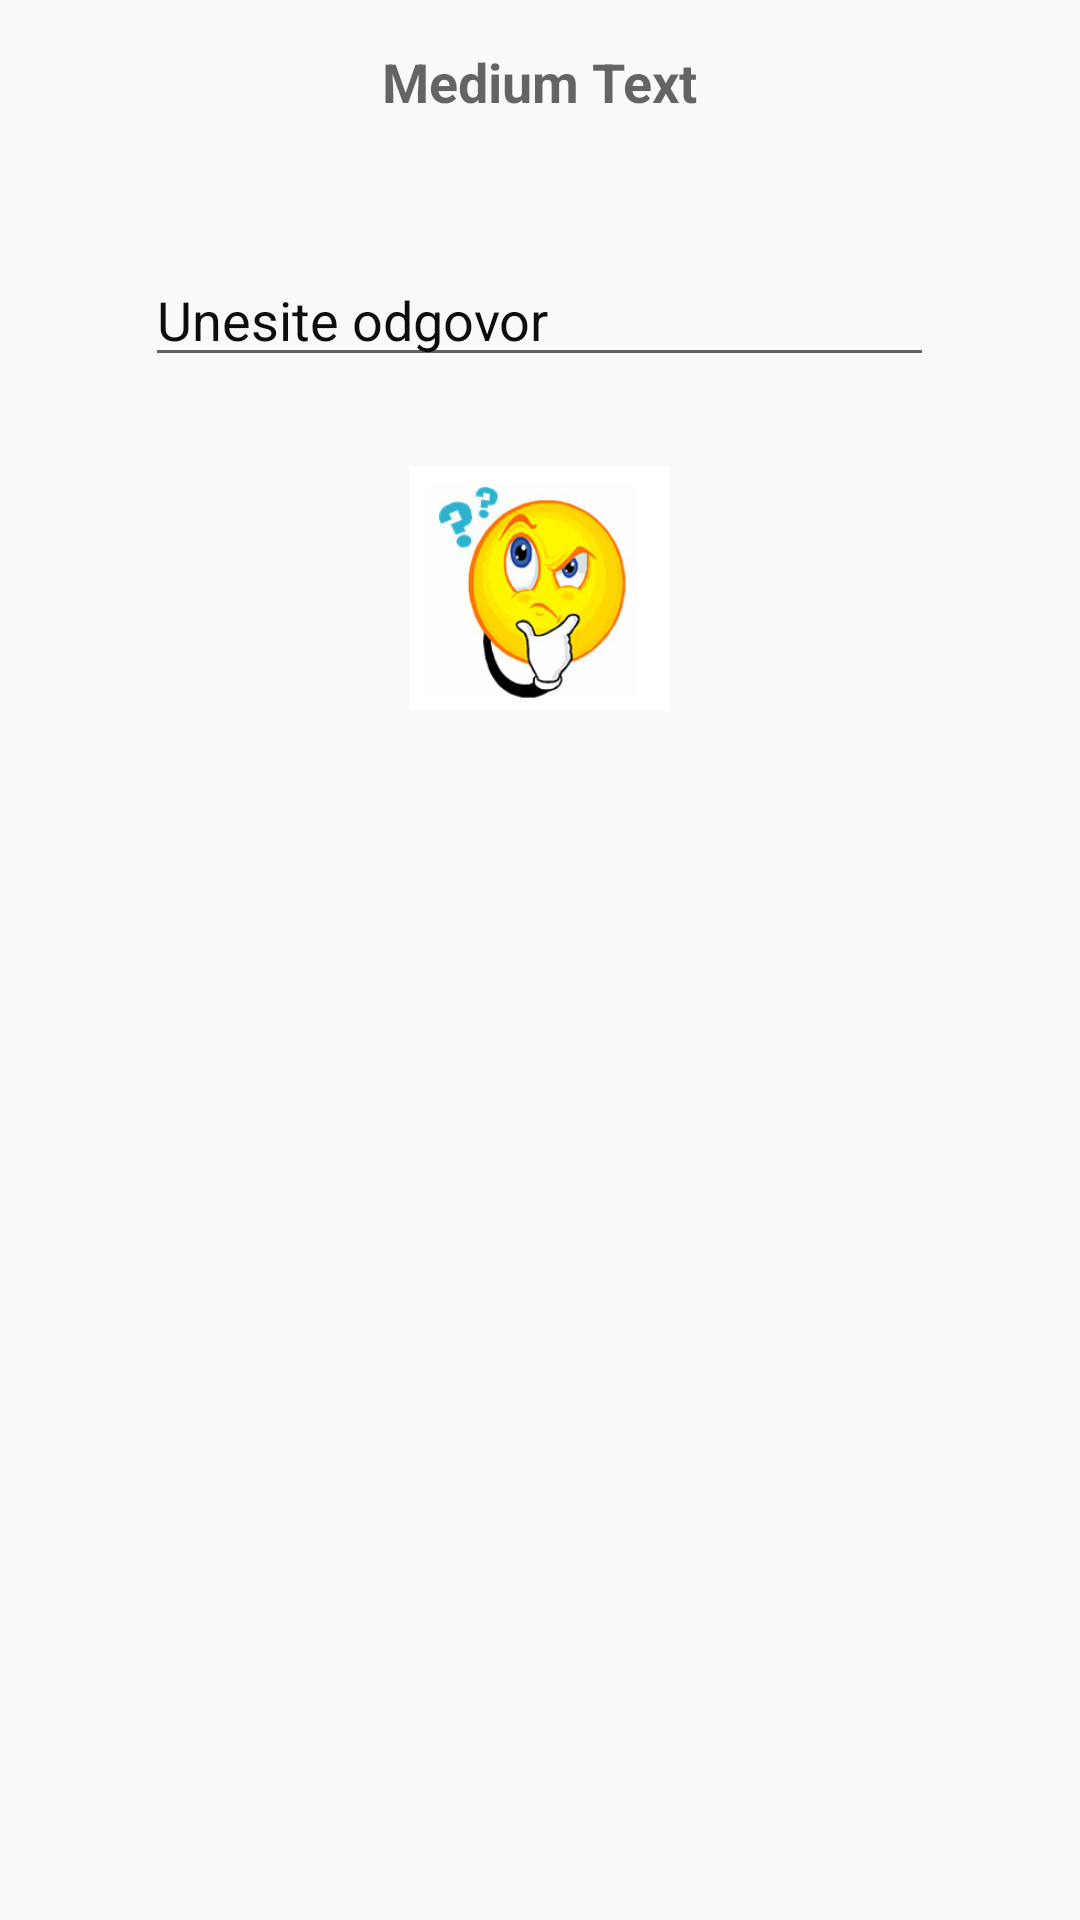

Icons on this 1080x1920 Android screen, each with the point to tap as [x,y]:
pitanje: [532,592]
